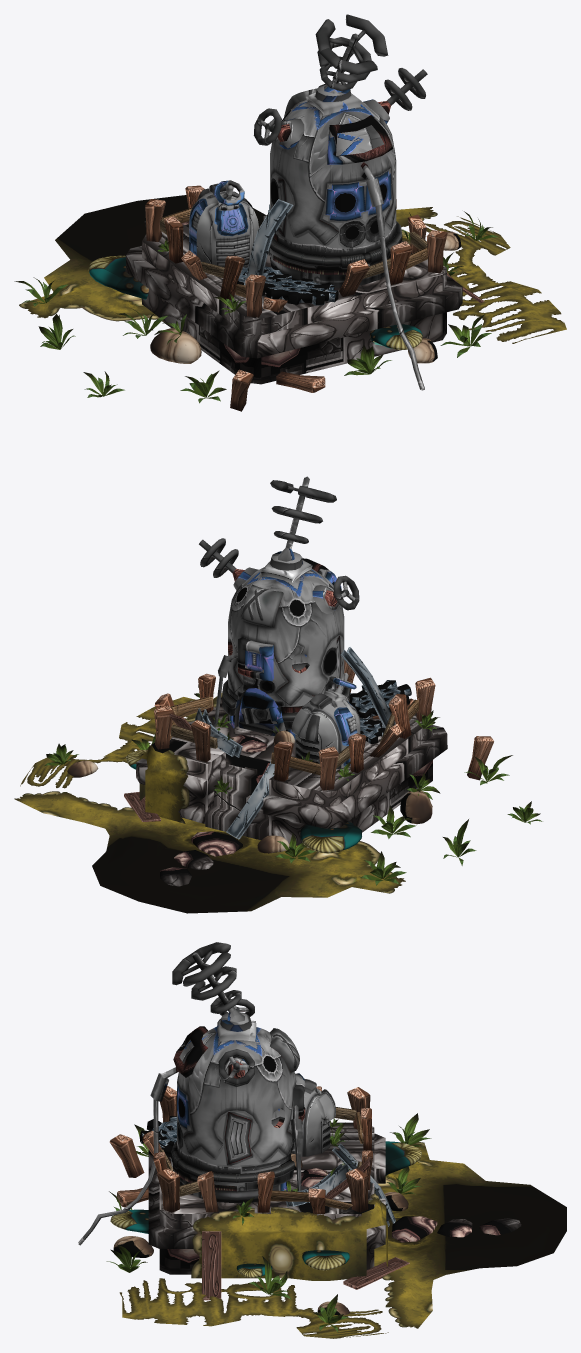
Rendered from bluehouse.dae.
The picture shows the model from 3 angles, top to bottom: view 1: azimuth 30°, elevation 25°; view 2: azimuth 150°, elevation 25°; view 3: azimuth 270°, elevation 25°; orthographic projection. The views are drawn at different scales.
Parts seen in each view (by area): view 1: housebig, socle, grasshouse, fence, grass, housesmall, mushroom, stone, cog, grider; view 2: grasshouse, housebig, socle, fence, grass, housesmall, grider, stone, mushroom, cog, plank; view 3: grasshouse, housebig, socle, fence, grass, mushroom, plank, housesmall, stone, grider, cog.
Part boxes in pixels (x1,y1,x2,y2): housebig: (253,14,427,390); socle: (125,215,462,384); grasshouse: (19,195,566,343); fence: (145,185,447,411); grass: (14,211,499,403); housesmall: (189,180,258,267); mushroom: (88,229,422,349); stone: (150,231,461,363); cog: (237,266,338,305); grider: (244,199,293,285); grasshouse: (14,693,405,913); housebig: (199,476,359,740); socle: (136,697,447,886); fence: (154,660,493,790); grass: (44,684,542,885); housesmall: (291,672,360,769); grider: (195,647,395,839); stone: (67,730,432,853); mushroom: (126,749,361,853); cog: (349,680,411,744); plank: (124,713,191,821); grasshouse: (119,1142,566,1338); housebig: (78,942,305,1245); socle: (148,1122,521,1274); fence: (109,1086,372,1213); grass: (106,1113,431,1332); mushroom: (110,1141,421,1277); plank: (202,1157,409,1300); housesmall: (291,1078,335,1156); stone: (113,1153,408,1316); grider: (285,1143,395,1226); cog: (139,1116,176,1160).
Bounding box in the file's own units: 0.5802 × 0.6153 × 0.3649.
Materials: 11 (11 with a texture image).
